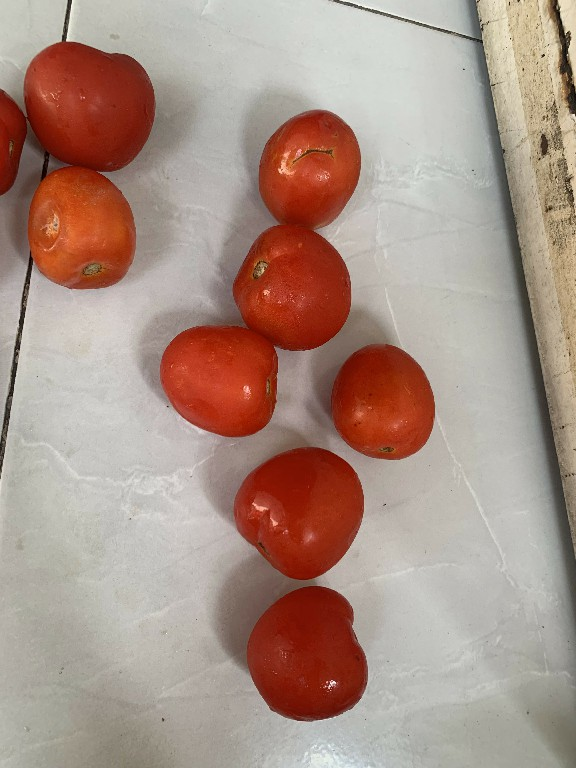NG: (24, 161, 140, 292), (252, 100, 365, 223)
OK: (230, 580, 381, 725), (12, 36, 163, 169), (222, 439, 372, 572), (228, 219, 358, 360), (155, 312, 285, 436), (333, 335, 443, 469)
